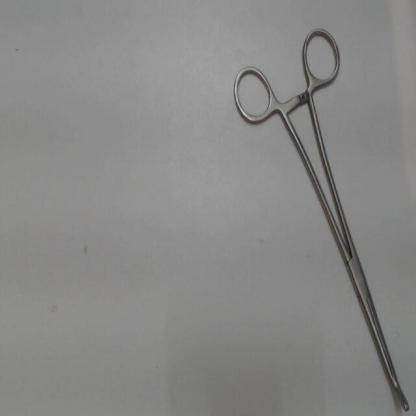Lahey Forceps: (229, 21, 413, 412)
